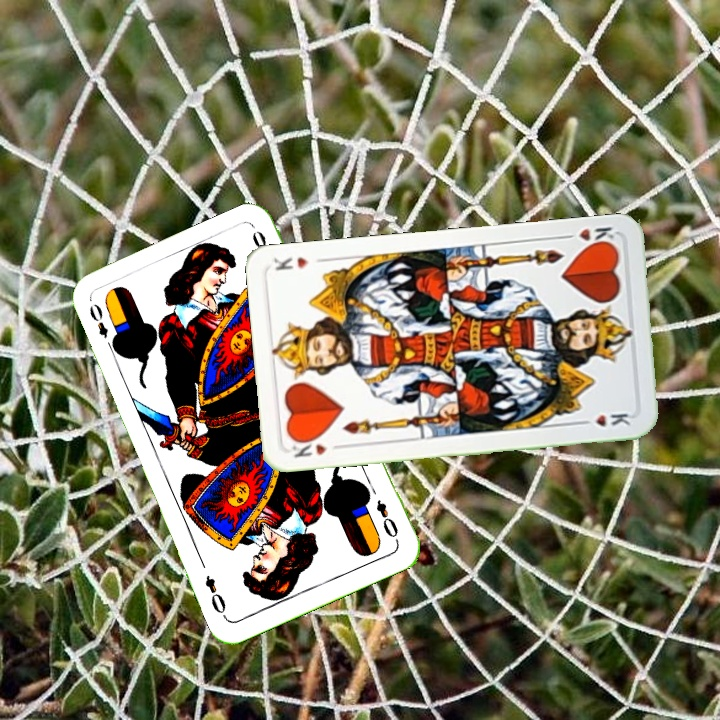EO: (85, 299, 118, 354), (372, 496, 402, 545)
HK: (288, 434, 346, 460), (574, 222, 617, 251)
